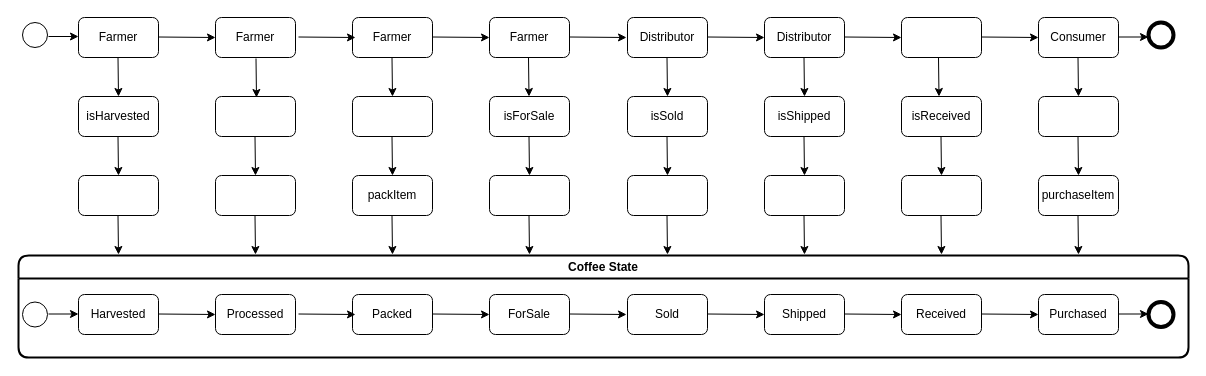
Some shapes in this 1206 by 376 pixel diagram are drawn without their labels. The shapes that lost their labels are listed below. From the top down, each one's centre as x and y in pixels, then its label:
the point at 941,37: Retailer
the point at 255,116: isProcessed
the point at 392,116: isPacked
the point at 1078,116: isPurchased
the point at 118,195: harvestItem
the point at 255,195: processItem
the point at 529,195: sellitem
the point at 667,195: buyItem
the point at 804,195: shipItem
the point at 941,195: receiveItem
